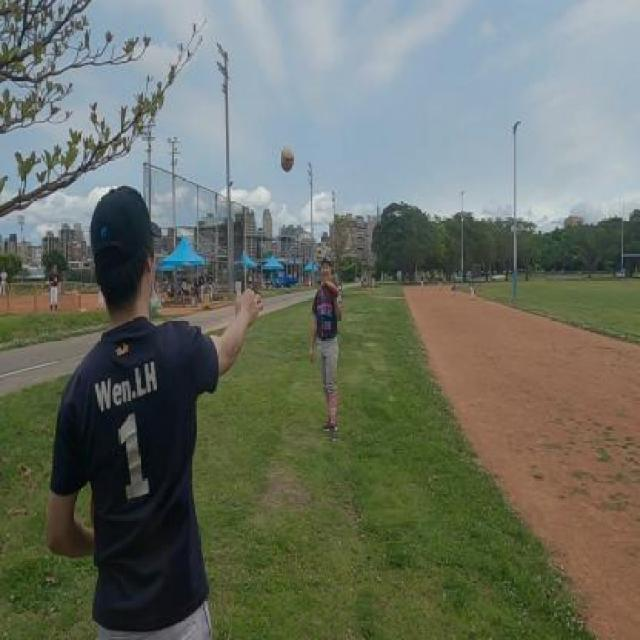baseball: (280, 145, 294, 173)
